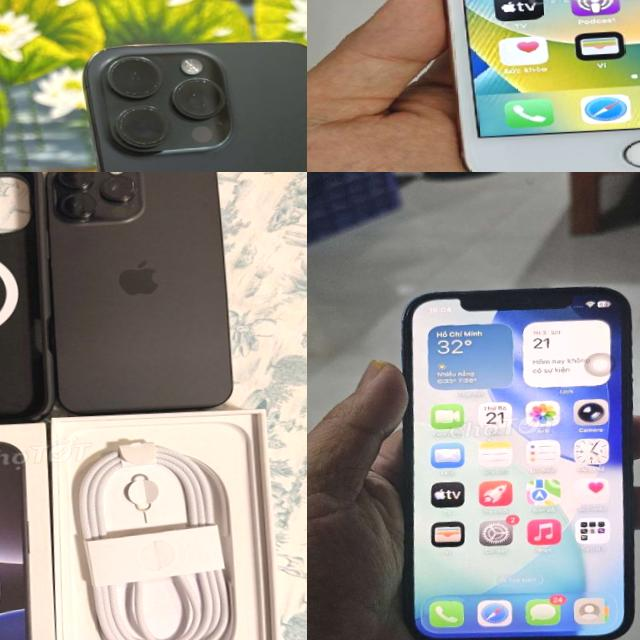gen_12_13: (390, 272, 640, 640)
gen_15: (80, 23, 307, 172)
gen_16: (23, 172, 256, 422)
gen_7_8: (405, 0, 640, 172)
